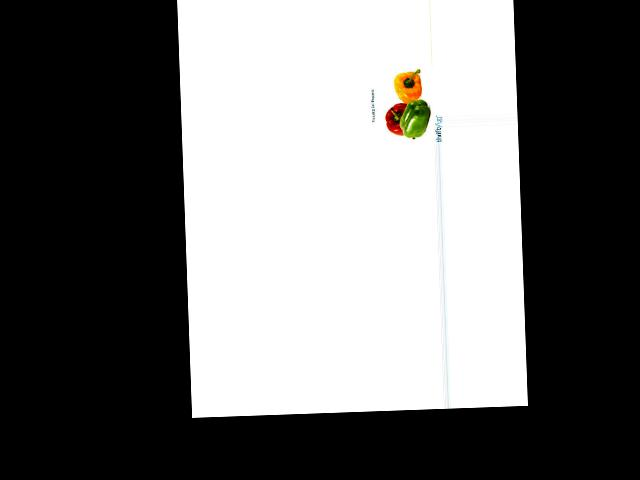bell_pepper: (399, 96, 434, 140)
